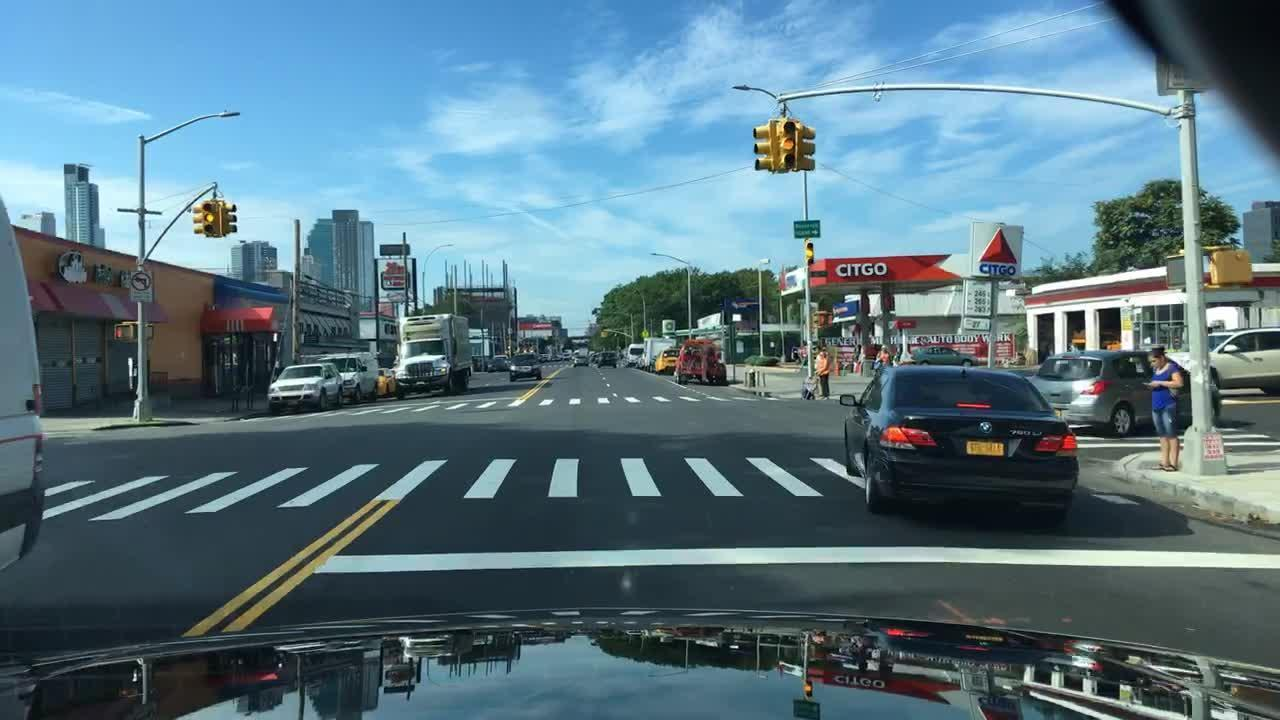bmw: (973, 417, 999, 437)
